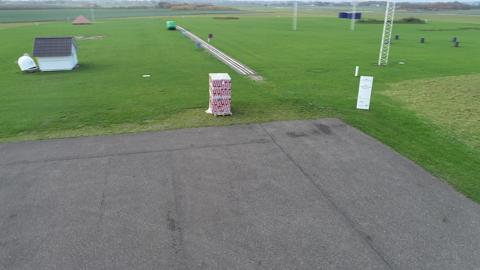RockwoolPallet: (208, 72, 233, 116)
